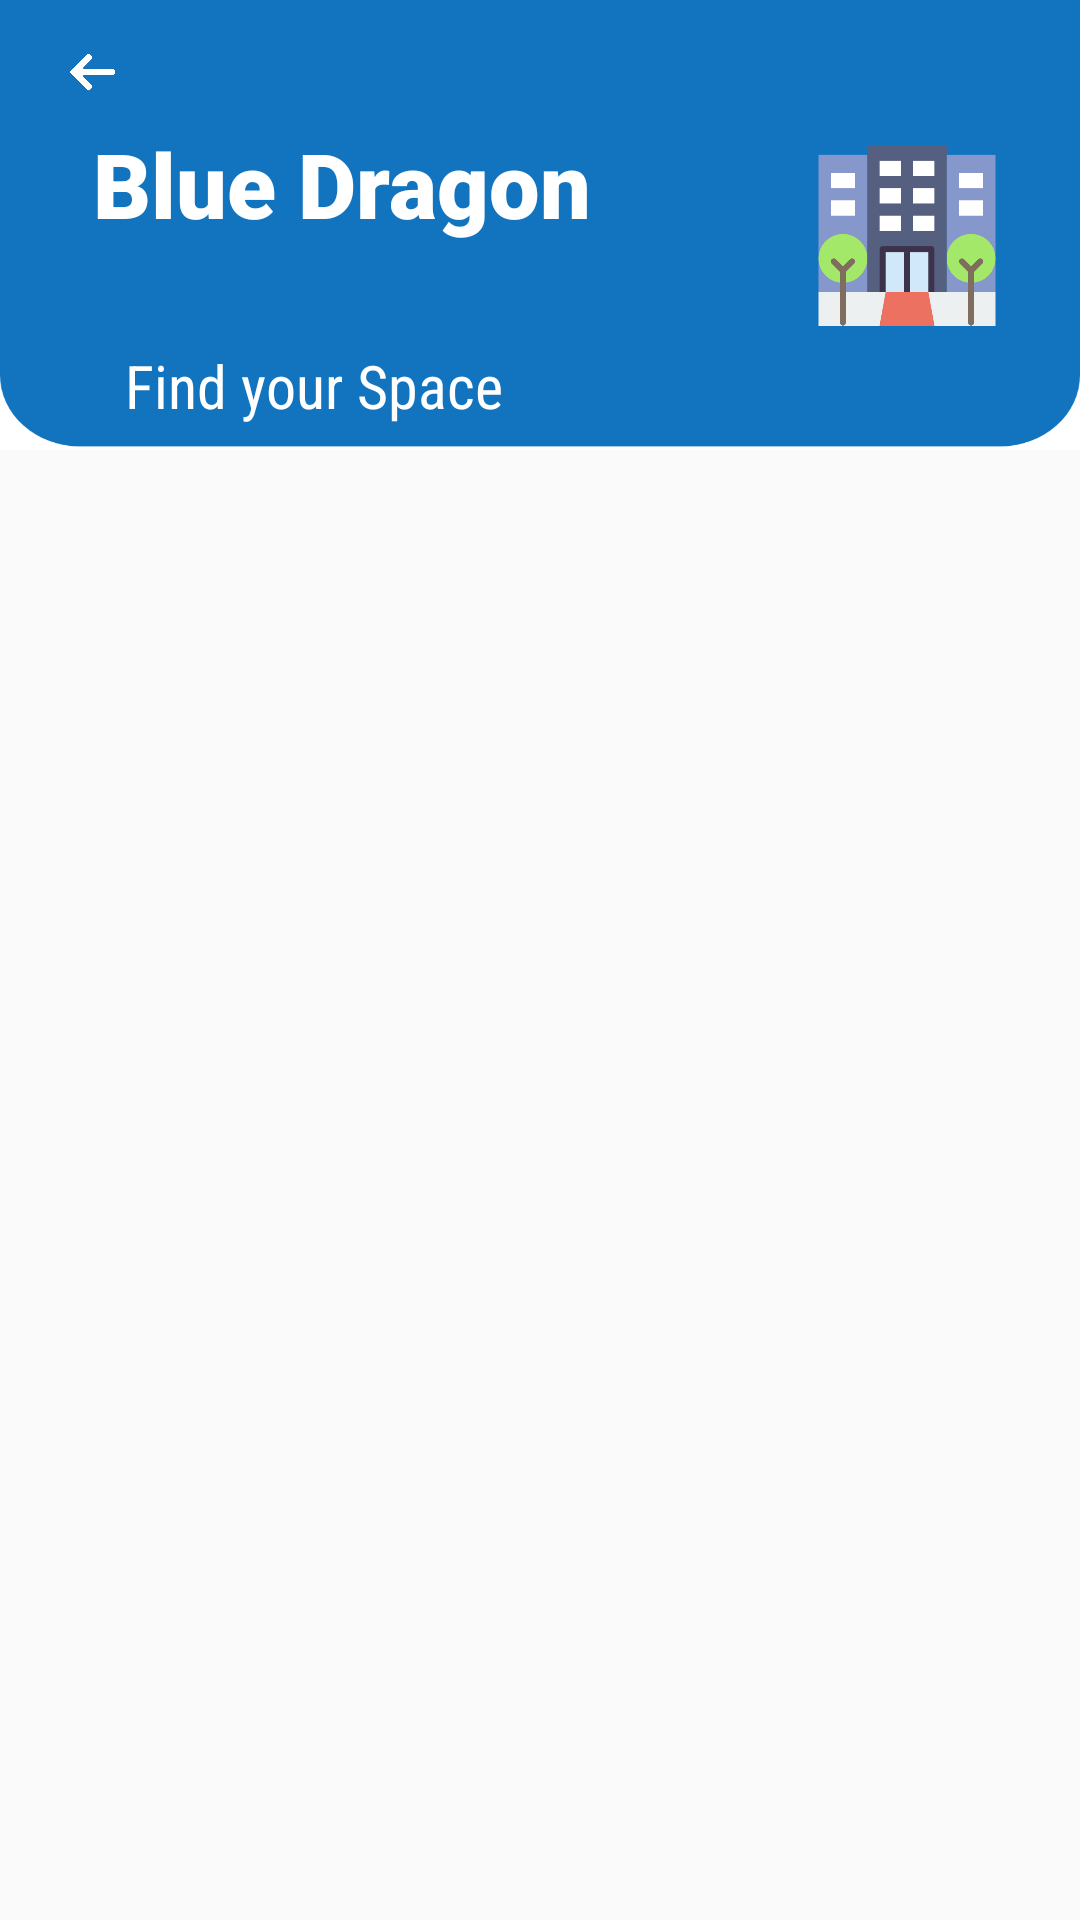

Screen size 1080*1920. Icon name, then its box in pixels as (x1, y1, x2, y2):
back: (70, 54, 115, 91)
emhotel: (818, 146, 996, 326)
